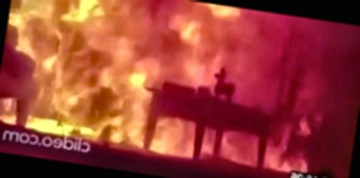fire: (0, 0, 314, 167)
